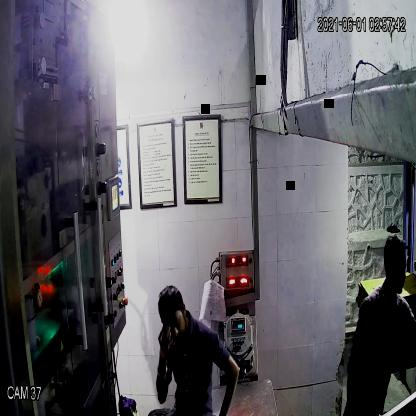no_goggles: (160, 314, 189, 338)
